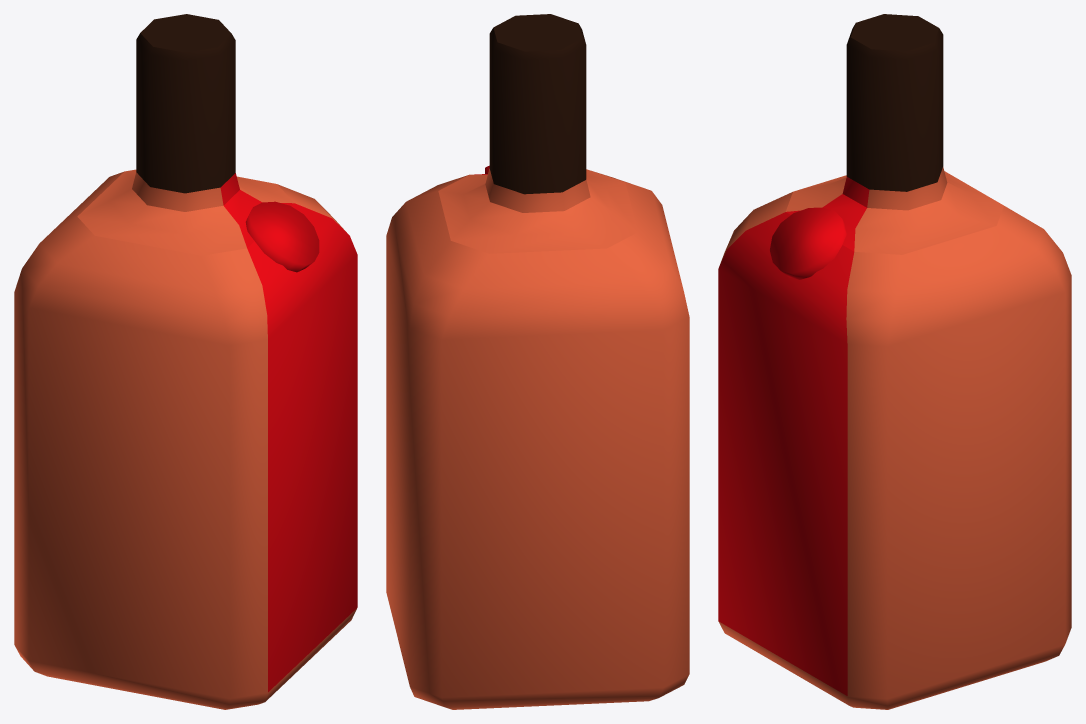
The model's file is OrangeRedStripe.fbx.
3 renders of one model, left to right at view 1: azimuth 30°, elevation 25°; view 2: azimuth 150°, elevation 25°; view 3: azimuth 270°, elevation 25°, orthographic.
Visible parts, largest first — view 1: OrangeRedStripe; view 2: OrangeRedStripe; view 3: OrangeRedStripe.
Boxes of the visible parts, box(x1,y1,x2,y2) form: OrangeRedStripe: box(14, 14, 357, 709); OrangeRedStripe: box(386, 14, 689, 709); OrangeRedStripe: box(718, 14, 1071, 709).
Size of the model in its own units: 10.53 by 20.11 by 10.53.
